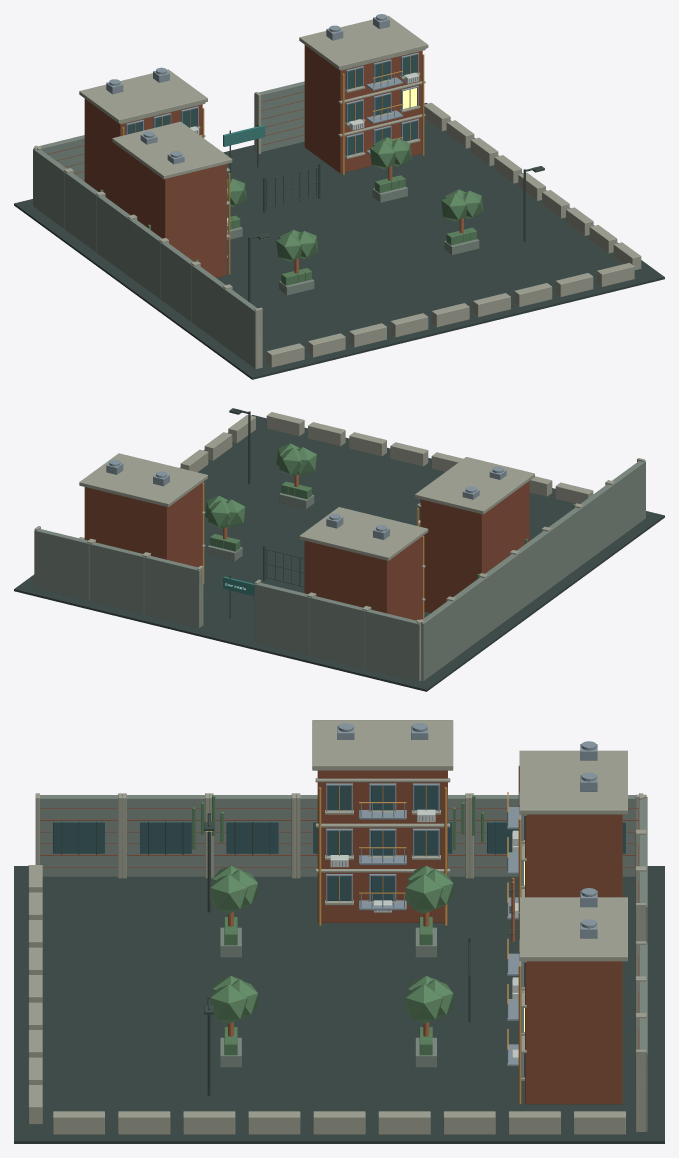
File: chapter_apartments.glb
The picture shows the model from 3 angles, top to bottom: view 1: azimuth 30°, elevation 25°; view 2: azimuth 150°, elevation 25°; view 3: azimuth 270°, elevation 25°; orthographic projection. The views are drawn at different scales.
Visible parts, largest first — view 1: chapter_apartments; view 2: chapter_apartments; view 3: chapter_apartments.
Part boxes in pixels (x1,y1,x2,y2): chapter_apartments: (14, 14, 664, 379); chapter_apartments: (14, 408, 664, 691); chapter_apartments: (14, 720, 664, 1143).
Bounding box in the file's own units: 30 × 8.79 × 30.
